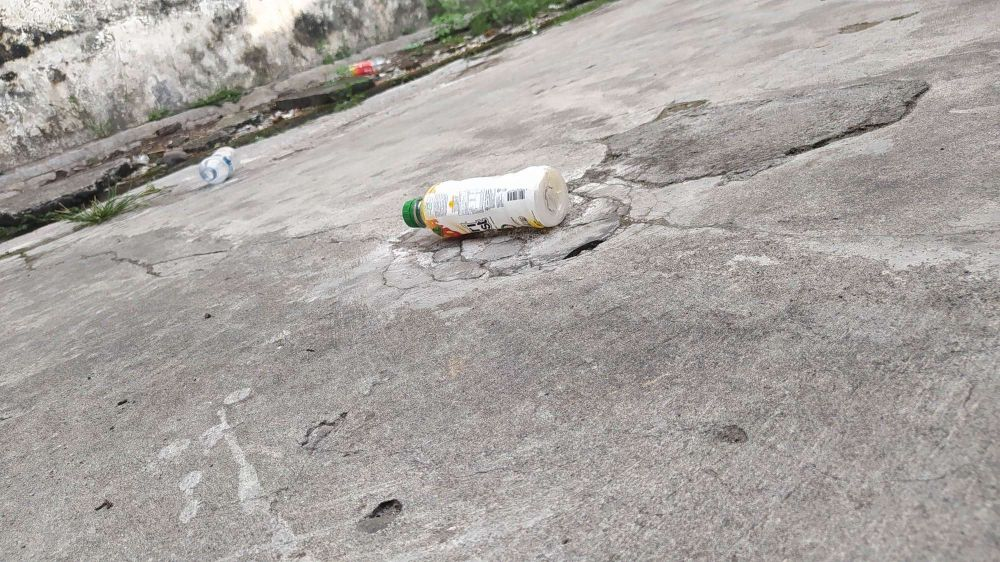botol: (389, 156, 570, 249), (188, 133, 248, 189), (343, 52, 402, 79)
